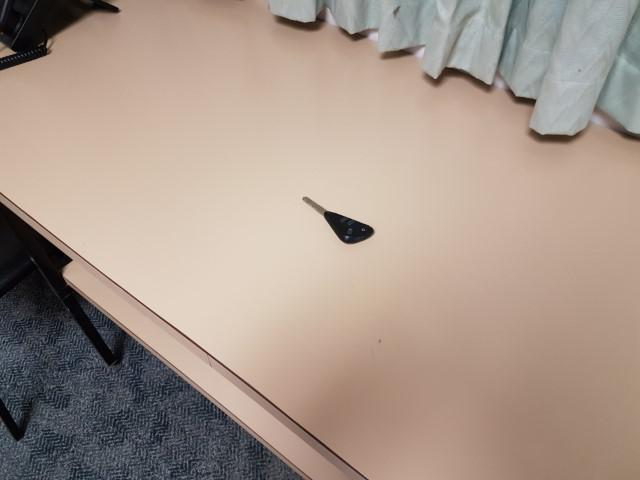key: (303, 194, 374, 244)
